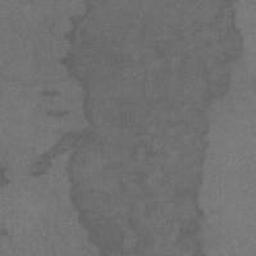Water spot: (28, 0, 246, 256), (45, 109, 70, 120), (0, 166, 10, 186), (42, 88, 63, 95), (0, 229, 8, 236)
